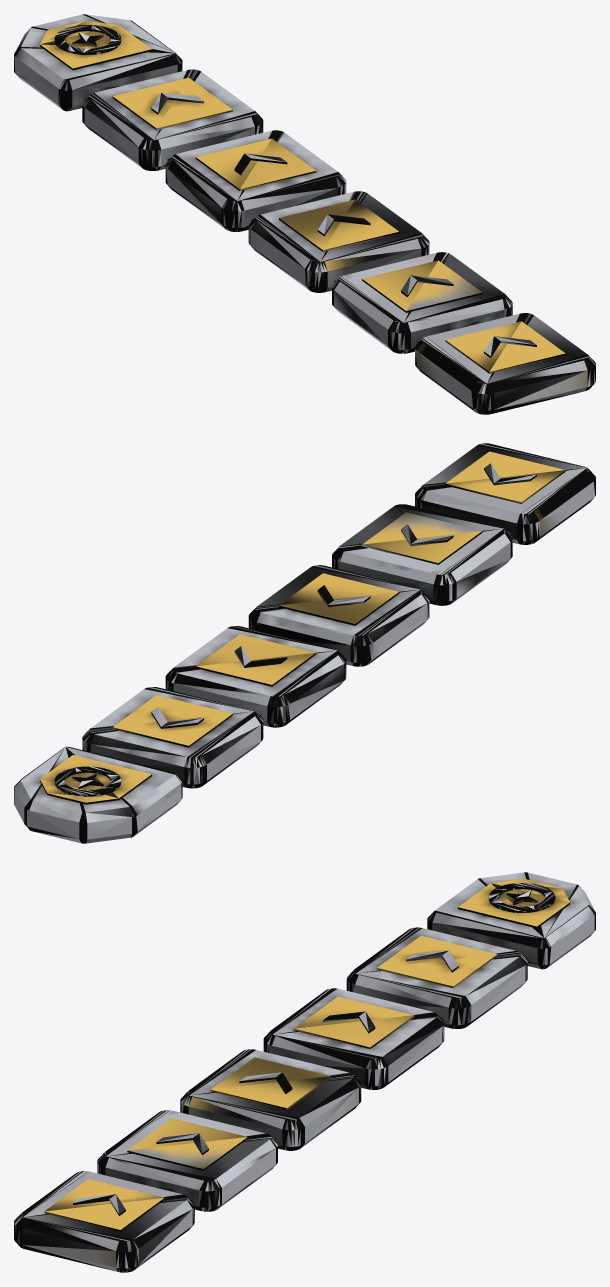
File: FinalLane6_NaranjaDorado.glb
3 views of the same model, one above another, from view 1: azimuth 30°, elevation 25°; view 2: azimuth 150°, elevation 25°; view 3: azimuth 330°, elevation 25° (orthographic).
Parts seen in each view (by area): view 1: Tile_1_Body, Tile_3_Body, Tile_5_Body, Tile_4_Body, Tile_2_Body, Tile_6_Body, Tile_1_TeamInset, Tile_2_TeamInset, Tile_4_TeamInset, Tile_5_TeamInset, Tile_3_TeamInset, Tile_6_TeamInset (+1 smaller); view 2: Tile_6_Body, Tile_4_Body, Tile_3_Body, Tile_1_Body, Tile_2_Body, Tile_5_Body, Tile_4_TeamInset, Tile_2_TeamInset, Tile_3_TeamInset, Tile_5_TeamInset, Tile_1_TeamInset, Tile_6_TeamInset (+1 smaller); view 3: Tile_1_Body, Tile_3_Body, Tile_5_Body, Tile_4_Body, Tile_2_Body, Tile_6_Body, Tile_1_TeamInset, Tile_2_TeamInset, Tile_4_TeamInset, Tile_5_TeamInset, Tile_3_TeamInset, Tile_6_TeamInset (+1 smaller).
Boxes of the visible parts, x1,y1,x2,y2 form: Tile_1_Body: (415,313,595,414); Tile_3_Body: (248,191,429,292); Tile_5_Body: (82,69,263,170); Tile_4_Body: (165,130,346,231); Tile_2_Body: (332,252,512,353); Tile_6_Body: (14,14,182,111); Tile_1_TeamInset: (445,321,565,373); Tile_2_TeamInset: (362,260,482,312); Tile_4_TeamInset: (195,138,316,190); Tile_5_TeamInset: (112,77,232,130); Tile_3_TeamInset: (279,199,399,251); Tile_6_TeamInset: (40,20,151,70); Tile_6_Body: (14,746,182,843); Tile_4_Body: (165,626,346,727); Tile_3_Body: (248,565,429,666); Tile_1_Body: (415,443,595,544); Tile_2_Body: (332,504,512,605); Tile_5_Body: (82,687,263,788); Tile_4_TeamInset: (195,634,316,686); Tile_2_TeamInset: (362,512,482,564); Tile_3_TeamInset: (279,573,399,625); Tile_5_TeamInset: (112,695,232,747); Tile_1_TeamInset: (445,451,565,503); Tile_6_TeamInset: (40,755,151,804); Tile_1_Body: (14,1171,194,1272); Tile_3_Body: (180,1049,361,1150); Tile_5_Body: (346,927,527,1028); Tile_4_Body: (263,988,444,1089); Tile_2_Body: (97,1110,277,1211); Tile_6_Body: (427,872,595,969); Tile_1_TeamInset: (44,1179,164,1231); Tile_2_TeamInset: (127,1118,247,1170); Tile_4_TeamInset: (293,996,414,1048); Tile_5_TeamInset: (377,935,497,988); Tile_3_TeamInset: (210,1057,330,1109); Tile_6_TeamInset: (458,878,569,928).
Size of the model in its own units: 0.85 by 0.225 by 5.85.
5 materials, 5 textured.
